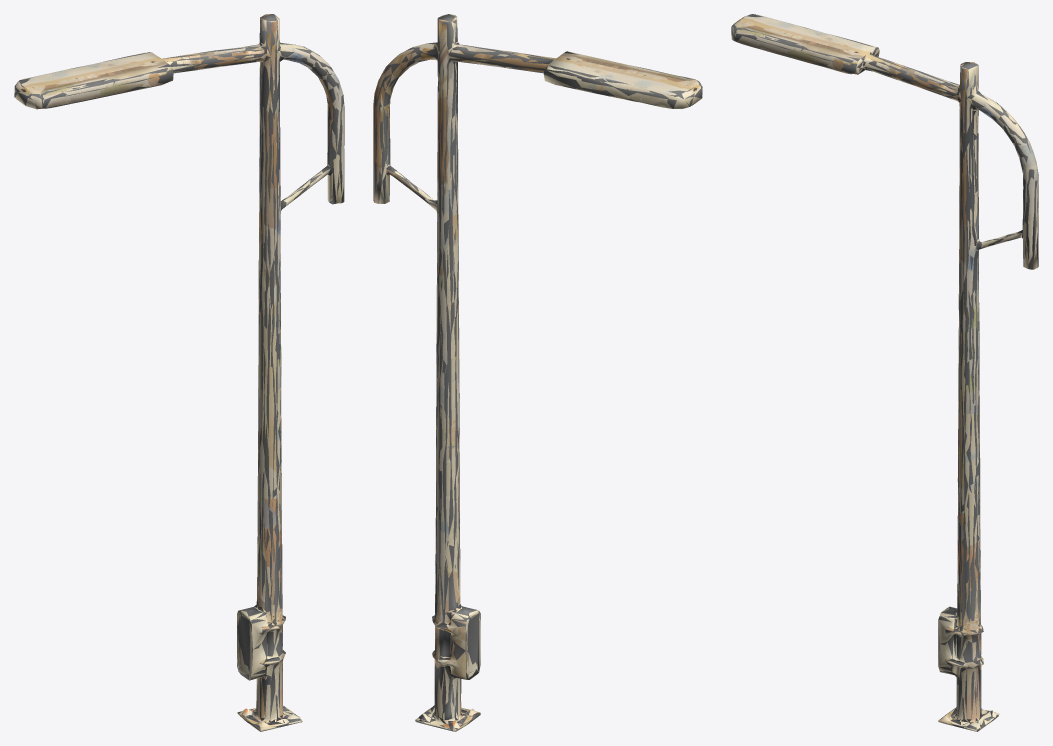
Rendered from lamba.fbx.
The picture shows the model from 3 angles, left to right: view 1: azimuth 30°, elevation 25°; view 2: azimuth 150°, elevation 25°; view 3: azimuth 330°, elevation 25°; orthographic projection. The views are drawn at different scales.
Parts seen in each view (by area): view 1: Mesh_0, Mesh_0.001; view 2: Mesh_0, Mesh_0.001; view 3: Mesh_0, Mesh_0.001.
Part boxes in pixels (x1,y1,x2,y2): Mesh_0: [14, 14, 344, 731]; Mesh_0.001: [14, 14, 344, 730]; Mesh_0: [373, 14, 702, 731]; Mesh_0.001: [373, 14, 702, 731]; Mesh_0: [731, 14, 1038, 731]; Mesh_0.001: [731, 14, 1038, 731].
Size of the model in its own units: 92.17 by 191 by 12.36.
